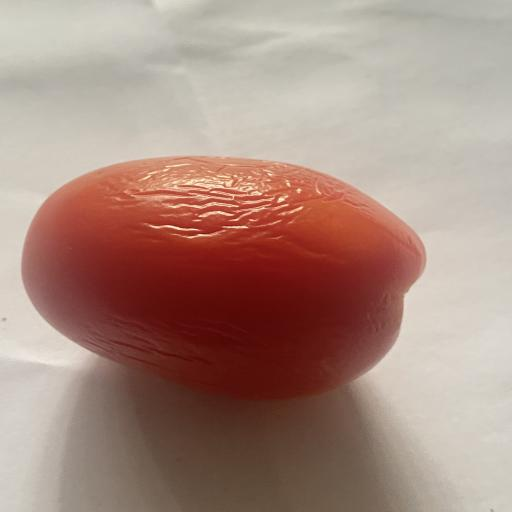spoiled: (22, 156, 425, 399)
